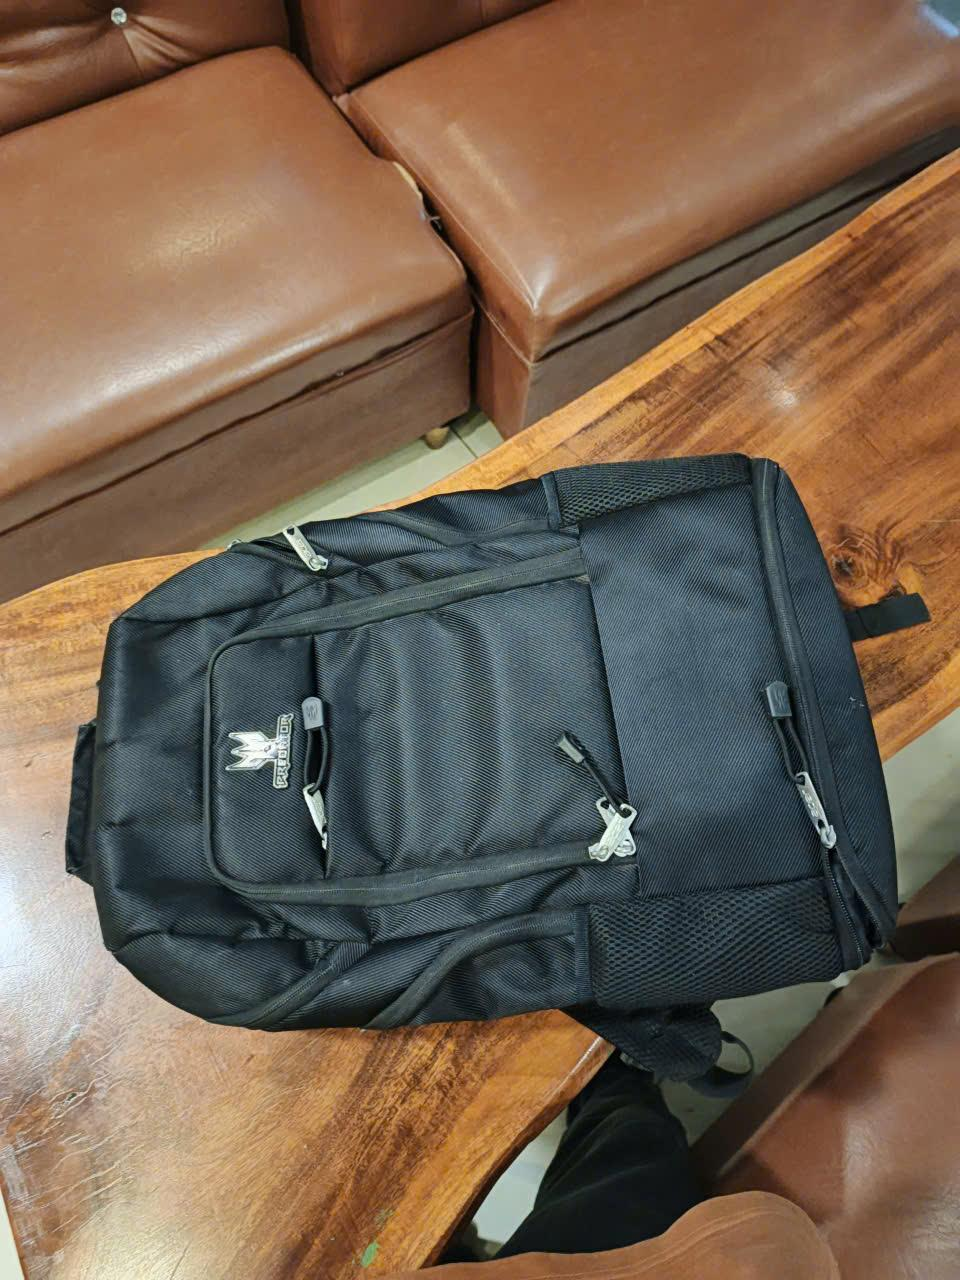Con lai: (70, 453, 916, 1007)
